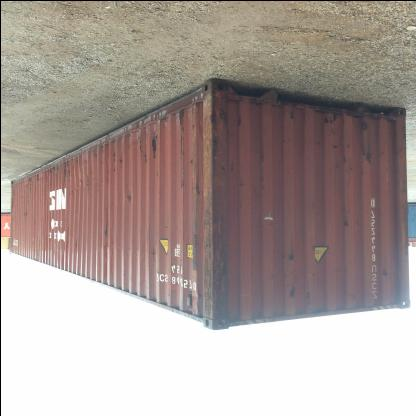Damage: (200, 86, 223, 318), (254, 97, 272, 186), (230, 93, 248, 157), (188, 97, 199, 195), (174, 104, 187, 186), (148, 113, 164, 161), (130, 123, 146, 163), (359, 149, 386, 165), (22, 172, 42, 193), (98, 209, 110, 243), (189, 228, 198, 268), (328, 158, 350, 174), (110, 148, 124, 172), (73, 172, 89, 190), (329, 140, 351, 152), (356, 118, 372, 134), (283, 282, 297, 300), (60, 160, 70, 184), (148, 241, 158, 265), (175, 258, 185, 282), (71, 154, 85, 170), (322, 114, 338, 128), (279, 252, 297, 264), (336, 216, 351, 230), (378, 266, 390, 282), (302, 286, 312, 304), (226, 160, 236, 174), (286, 108, 296, 122), (99, 143, 104, 166), (237, 180, 246, 191), (238, 200, 244, 212), (306, 273, 318, 279), (124, 194, 132, 203), (73, 237, 77, 251), (125, 245, 133, 252), (94, 180, 99, 190), (22, 210, 28, 218), (66, 189, 72, 197), (153, 270, 161, 276), (162, 223, 168, 230), (119, 271, 125, 278), (165, 292, 171, 298), (12, 189, 16, 195), (92, 152, 96, 158), (174, 224, 180, 228), (18, 195, 23, 199), (68, 232, 73, 236), (34, 194, 38, 198), (89, 180, 93, 184), (88, 170, 92, 173), (106, 179, 108, 181), (100, 180, 102, 182)
